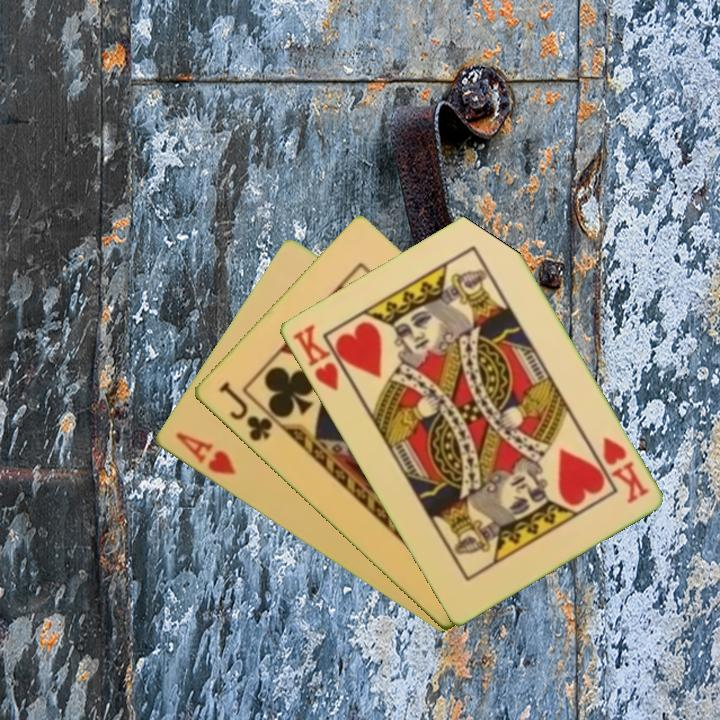Ah: (171, 428, 239, 478)
Jc: (214, 378, 275, 445)
Kh: (288, 320, 355, 394), (598, 433, 652, 507)
